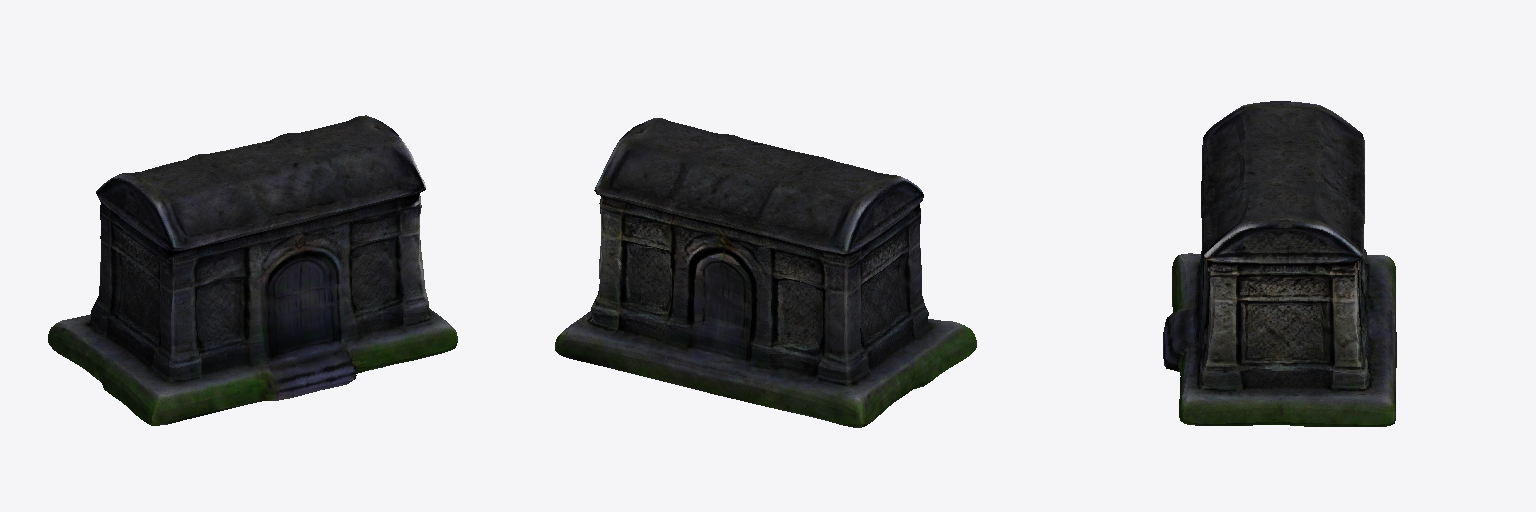
3 views of the same model, side by side, from view 1: azimuth 30°, elevation 25°; view 2: azimuth 150°, elevation 25°; view 3: azimuth 270°, elevation 25° (orthographic).
Visible parts, largest first — view 1: mesh; view 2: mesh; view 3: mesh.
Boxes of the visible parts, <box> form: mesh: <box>48,115,457,425</box>; mesh: <box>555,118,976,427</box>; mesh: <box>1163,101,1396,426</box>.
Bounding box in the file's own units: 0.9971 × 0.5844 × 0.639.
Materials: 1 (1 with a texture image).